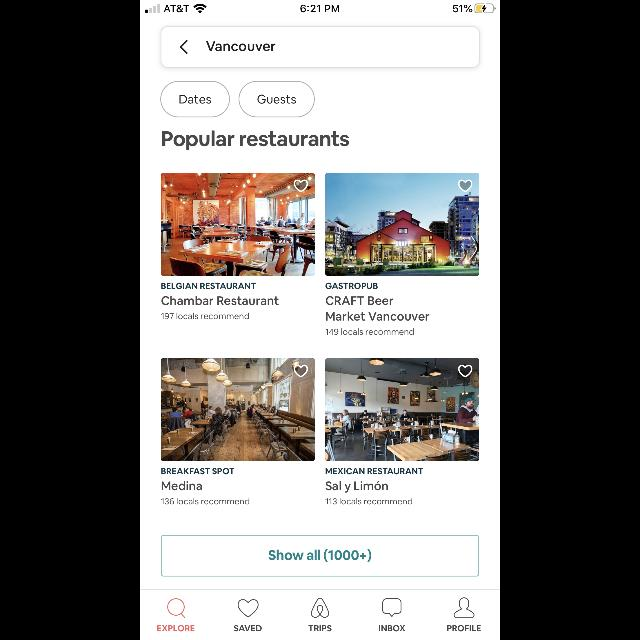icon: (454, 598, 474, 618), (382, 598, 402, 618), (238, 599, 258, 617), (167, 598, 185, 618), (458, 365, 472, 377), (294, 365, 308, 377), (294, 180, 308, 192), (458, 180, 472, 192), (180, 40, 188, 54)
image: (326, 359, 478, 461), (162, 359, 314, 461), (326, 174, 478, 276), (162, 174, 314, 276), (311, 598, 329, 618)
input: (161, 27, 479, 68)
text: (163, 130, 349, 150), (162, 296, 278, 306), (326, 312, 429, 321), (161, 312, 249, 320), (207, 41, 276, 51), (326, 296, 394, 306), (326, 482, 388, 492), (326, 468, 422, 474), (162, 283, 256, 289), (161, 498, 249, 504), (326, 329, 414, 335), (326, 498, 412, 504), (162, 468, 234, 474), (326, 282, 378, 290), (162, 482, 202, 491), (448, 624, 480, 632), (158, 625, 195, 631), (234, 625, 262, 631), (379, 625, 405, 631), (308, 625, 332, 631)
textbutton: (162, 536, 478, 576), (239, 81, 315, 117), (162, 80, 230, 118)
uppertaskbar: (140, 0, 500, 14)
